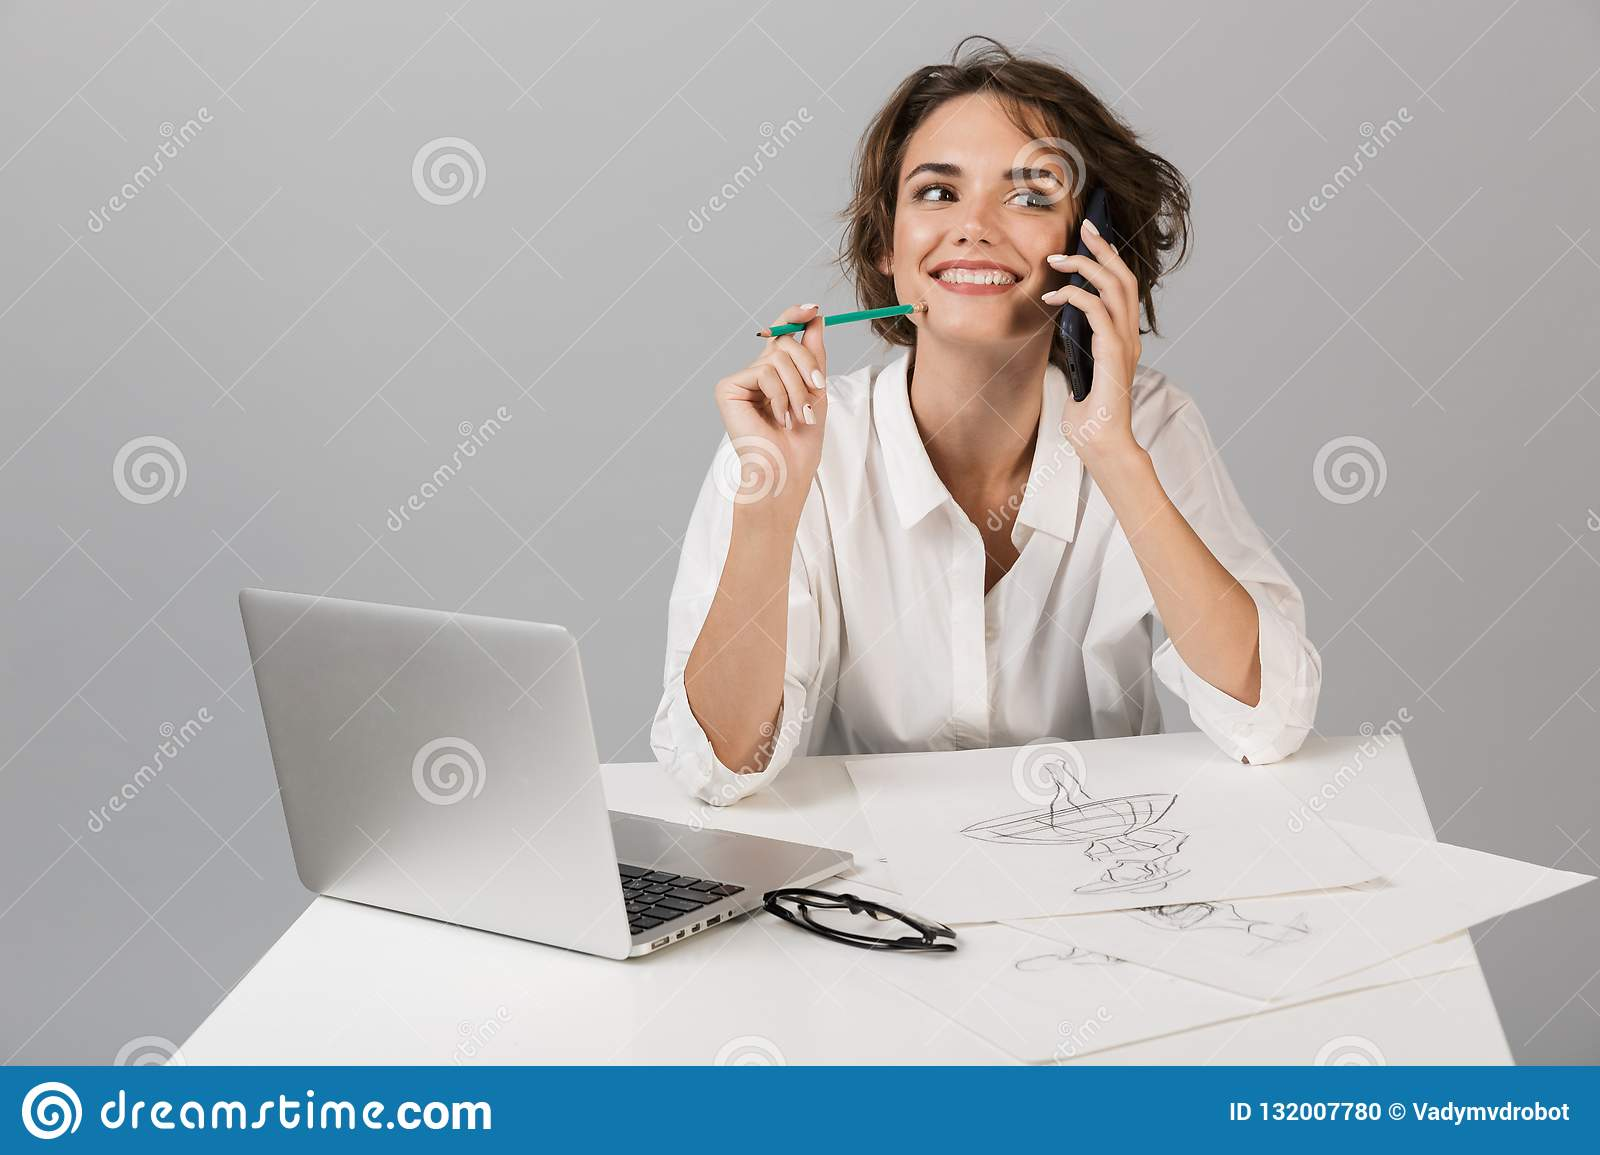phone: (1058, 180, 1119, 411)
talk: (894, 153, 1143, 464)
